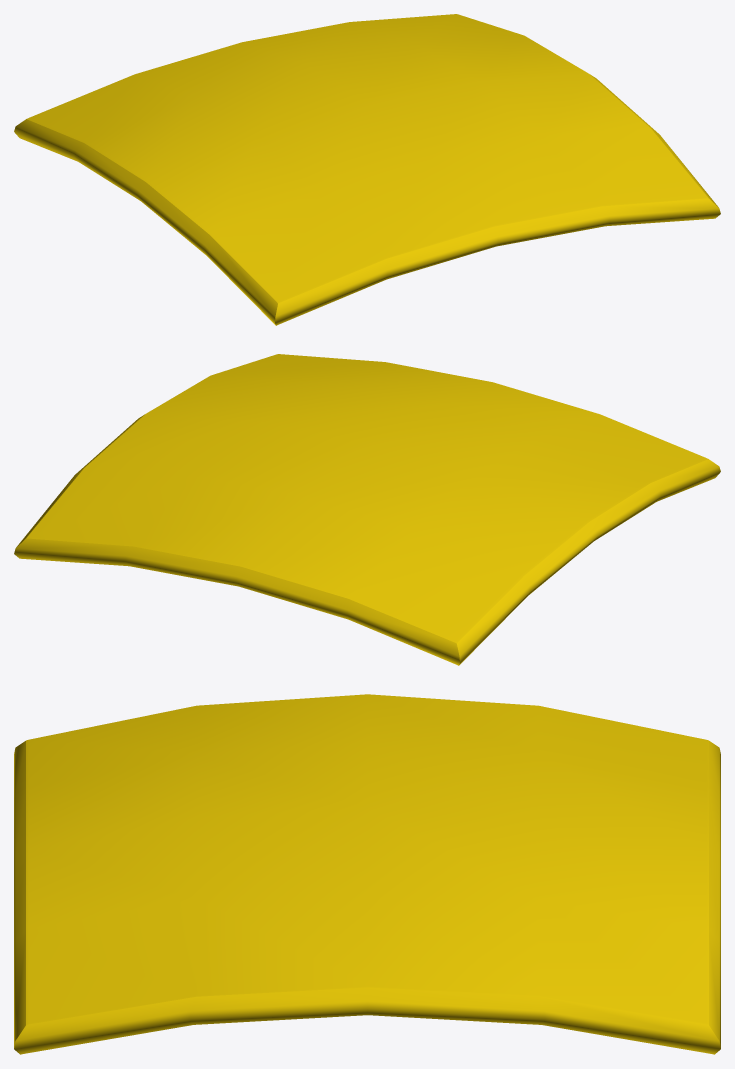
File: Anim_Obj_Queso.fbx
The picture shows the model from 3 angles, top to bottom: view 1: azimuth 30°, elevation 25°; view 2: azimuth 150°, elevation 25°; view 3: azimuth 270°, elevation 25°; orthographic projection. The views are drawn at different scales.
Parts seen in each view (by area): view 1: Queso; view 2: Queso; view 3: Queso.
Part boxes in pixels (x1,y1,x2,y2): Queso: (14, 14, 720, 325); Queso: (14, 354, 720, 665); Queso: (14, 694, 720, 1054).
Size of the model in its own units: 1.06 by 0.1656 by 1.04.
